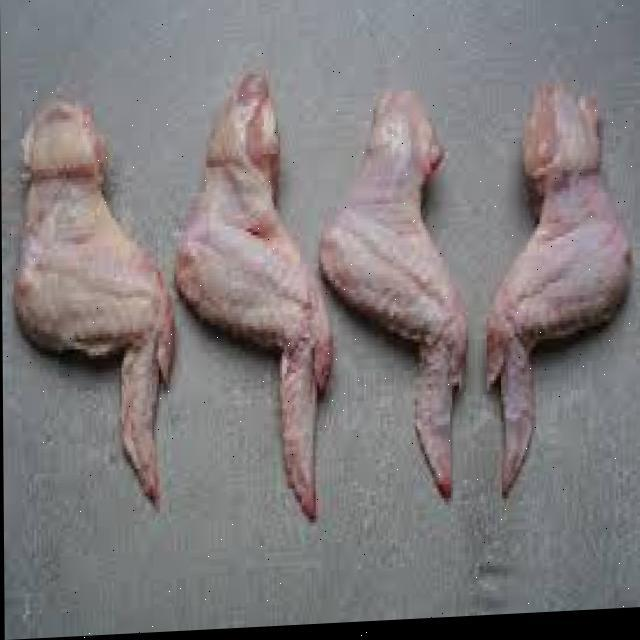wing: (18, 102, 180, 512), (178, 74, 326, 522), (490, 85, 634, 496), (328, 86, 472, 492)
